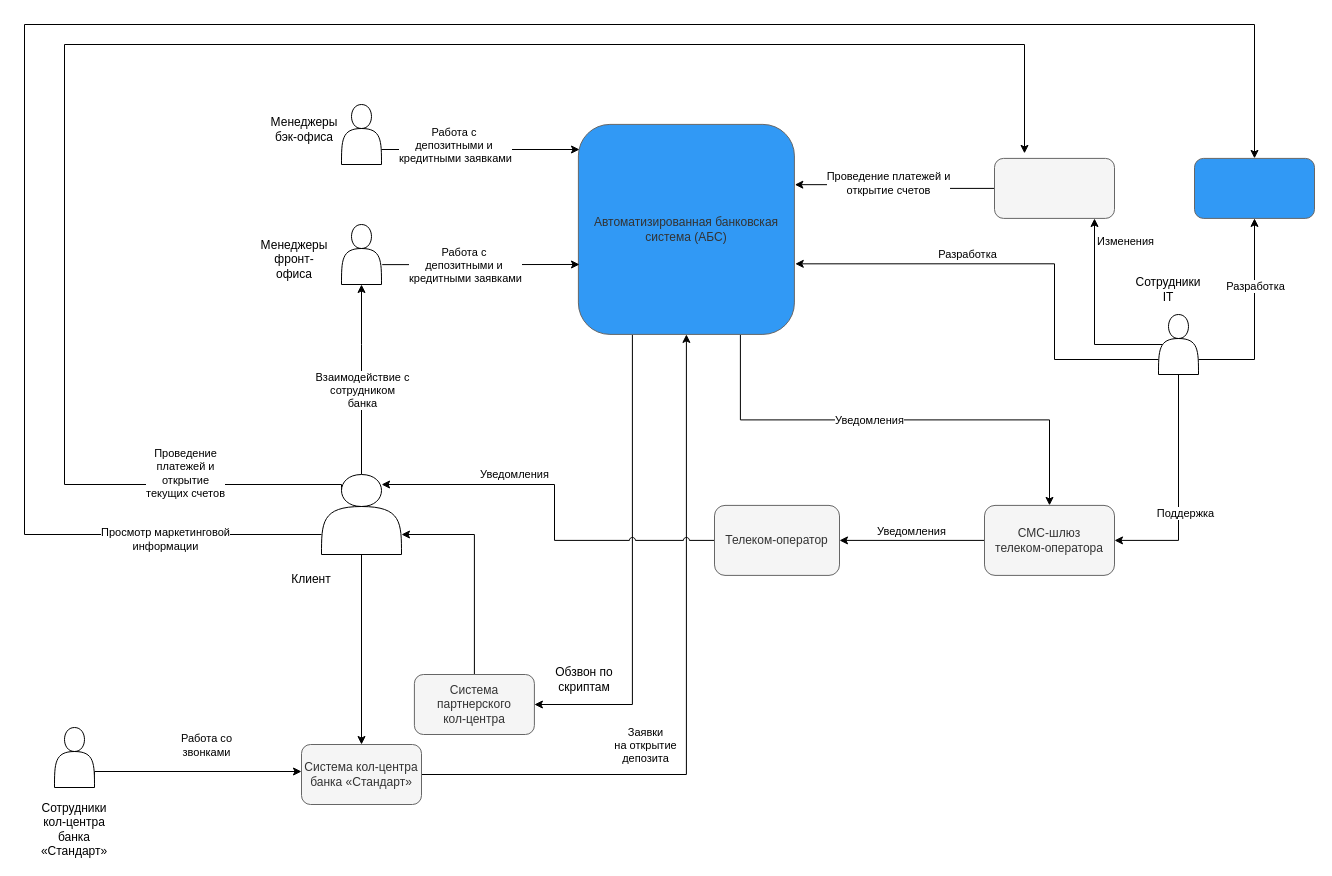
The diagram is 1332 pixels wide and 876 high, and some of its shapes have lost their labels. The shapes that lost their labels are listed below. From the top down, each one's box as (x1, y1, x2, y2) in pixels, then its label:
(994, 157, 1114, 218): Интернет-банк
(1194, 157, 1314, 218): Сайт
